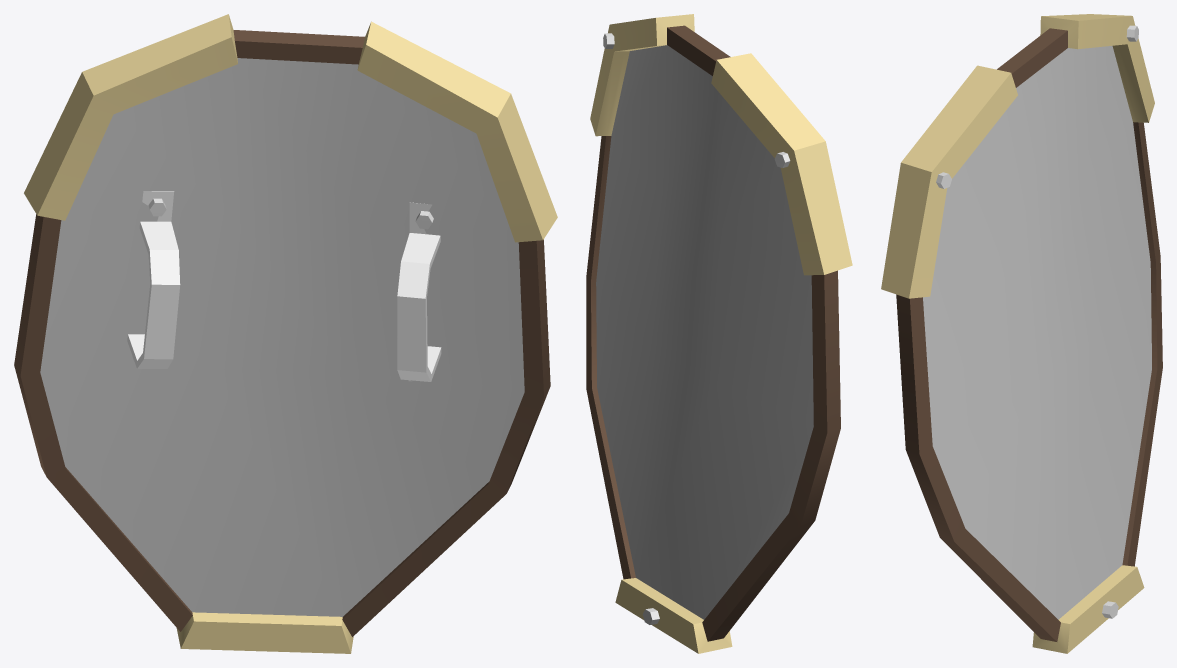
File: Shield.fbx
3 renders of one model, left to right at view 1: azimuth 30°, elevation 25°; view 2: azimuth 150°, elevation 25°; view 3: azimuth 270°, elevation 25°, orthographic. The views are drawn at different scales.
Visible parts, largest first — view 1: pCylinder7; view 2: pCylinder7; view 3: pCylinder7.
Boxes of the visible parts, x1,y1,x2,y2 form: pCylinder7: [14, 14, 557, 653]; pCylinder7: [586, 14, 852, 653]; pCylinder7: [881, 14, 1162, 653].
Size of the model in its own units: 3.87 by 5.83 by 2.55.
